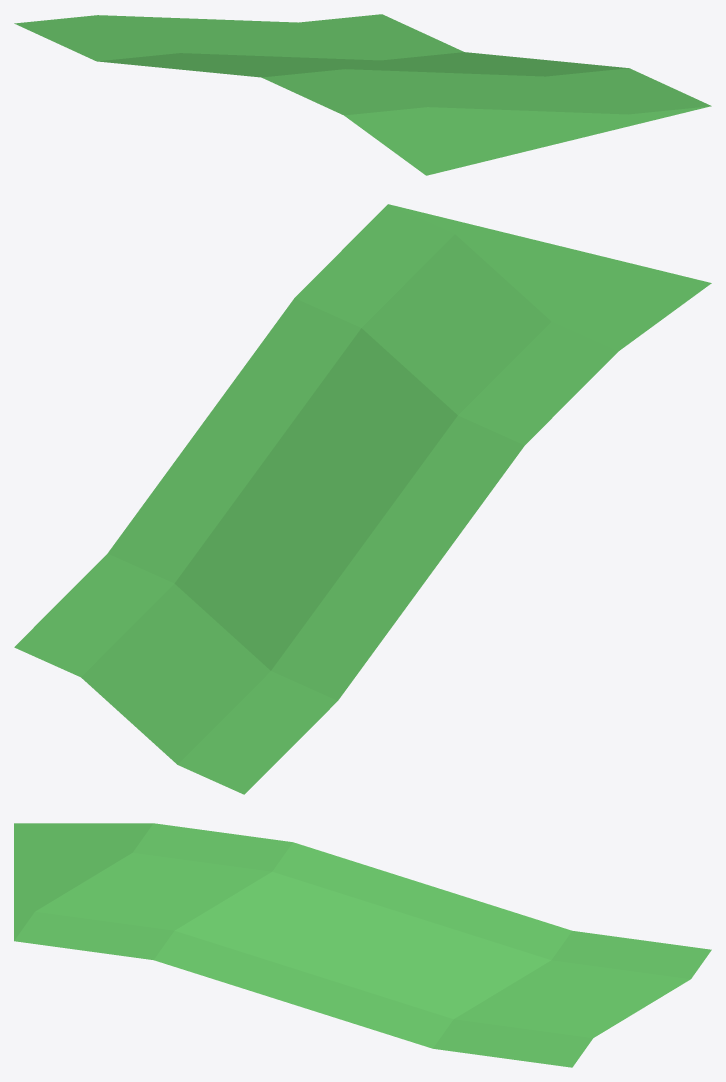
File: Hilly_Terrain_Hill_Side_Shift_Gentle.glb
3 views of the same model, one above another, from view 1: azimuth 30°, elevation 25°; view 2: azimuth 150°, elevation 25°; view 3: azimuth 270°, elevation 25° (orthographic). The views are drawn at different scales.
Parts seen in each view (by area): view 1: Hilly_Terrain_Hill_Side_Shift_Gentle; view 2: Hilly_Terrain_Hill_Side_Shift_Gentle; view 3: Hilly_Terrain_Hill_Side_Shift_Gentle.
Part boxes in pixels (left/top/right/bottom): Hilly_Terrain_Hill_Side_Shift_Gentle: left=14, top=14, right=711, bottom=175; Hilly_Terrain_Hill_Side_Shift_Gentle: left=14, top=204, right=711, bottom=794; Hilly_Terrain_Hill_Side_Shift_Gentle: left=14, top=823, right=711, bottom=1067.
Bounding box in the file's own units: 0.672 × 0.336 × 1.68.
